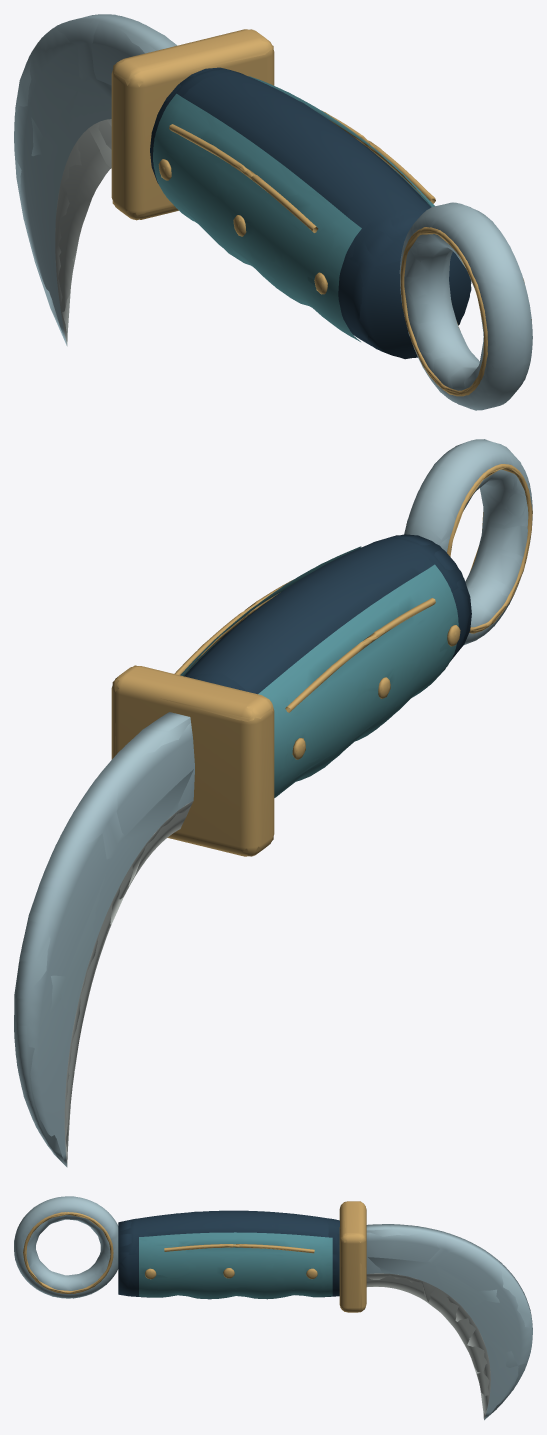
Rendered from anime-karambit.glb.
The picture shows the model from 3 angles, top to bottom: view 1: azimuth 30°, elevation 25°; view 2: azimuth 150°, elevation 25°; view 3: azimuth 270°, elevation 25°; orthographic projection. The views are drawn at different scales.
Parts seen in each view (by area): view 1: World hardware, weapon_Karambit satin blade, weapon_Karambit graphite grip, weapon_Weapon finish / Karambit ceramic, weapon_Karambit brass inlay, World paint, weapon_Karambit honed edge; view 2: weapon_Karambit satin blade, World hardware, weapon_Karambit brass inlay, weapon_Weapon finish / Karambit ceramic, weapon_Karambit graphite grip, World paint, weapon_Karambit honed edge; view 3: weapon_Karambit satin blade, World hardware, weapon_Weapon finish / Karambit ceramic, weapon_Karambit graphite grip, weapon_Karambit brass inlay, World paint, weapon_Karambit honed edge.
Boxes of the visible parts, x1,y1,x2,y2 form: World hardware: [14, 14, 532, 410]; weapon_Karambit satin blade: [14, 14, 532, 410]; weapon_Karambit graphite grip: [150, 67, 471, 358]; weapon_Weapon finish / Karambit ceramic: [153, 80, 434, 341]; weapon_Karambit brass inlay: [111, 29, 487, 396]; World paint: [153, 76, 434, 341]; weapon_Karambit honed edge: [58, 119, 111, 345]; weapon_Karambit satin blade: [14, 439, 532, 1167]; World hardware: [14, 439, 532, 1166]; weapon_Karambit brass inlay: [111, 464, 531, 856]; weapon_Weapon finish / Karambit ceramic: [182, 547, 458, 796]; weapon_Karambit graphite grip: [184, 534, 469, 694]; World paint: [180, 546, 457, 797]; weapon_Karambit honed edge: [64, 806, 190, 1166]; weapon_Karambit satin blade: [14, 1196, 532, 1419]; World hardware: [14, 1196, 532, 1419]; weapon_Weapon finish / Karambit ceramic: [139, 1210, 332, 1298]; weapon_Karambit graphite grip: [118, 1210, 339, 1297]; weapon_Karambit brass inlay: [23, 1201, 366, 1312]; World paint: [139, 1211, 332, 1298]; weapon_Karambit honed edge: [366, 1275, 489, 1419].
Size of the model in its own units: 0.0438 by 0.1182 by 0.2499.
